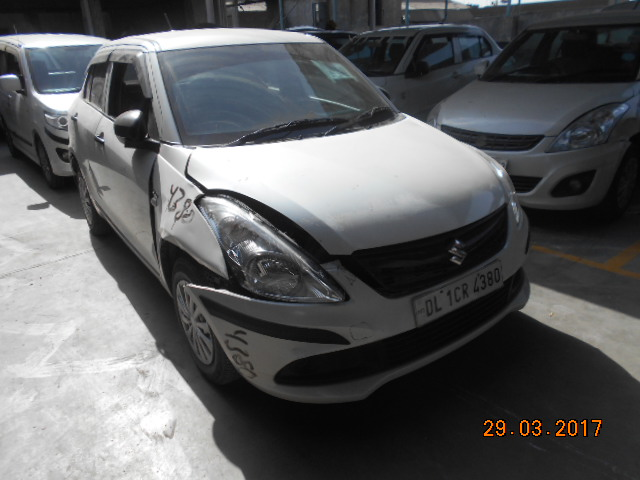Dislocation: (187, 256, 236, 305)
